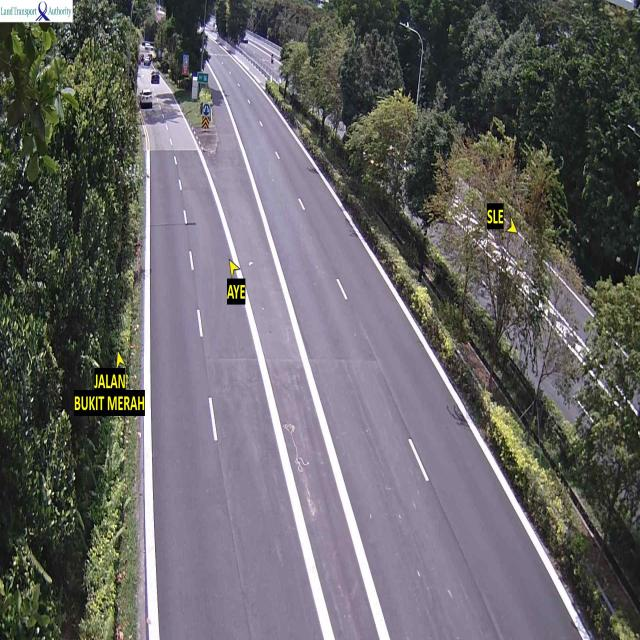vehicles: (139, 87, 154, 110), (148, 66, 163, 86)
